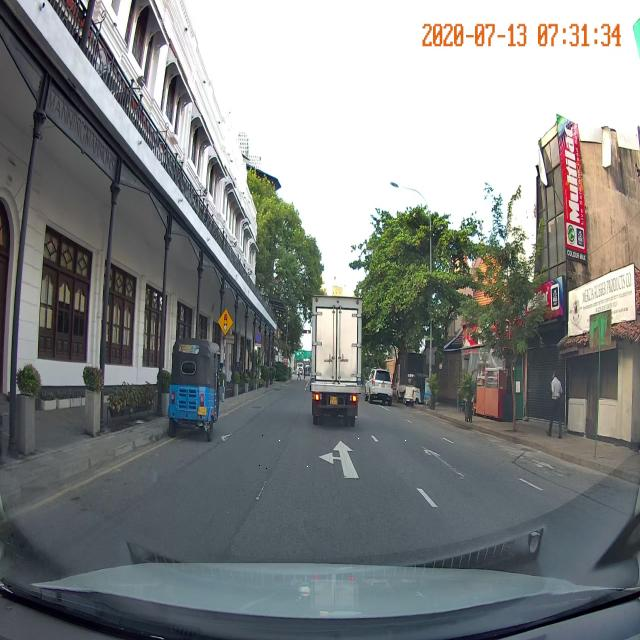forward_lft: (257, 431, 426, 486)
